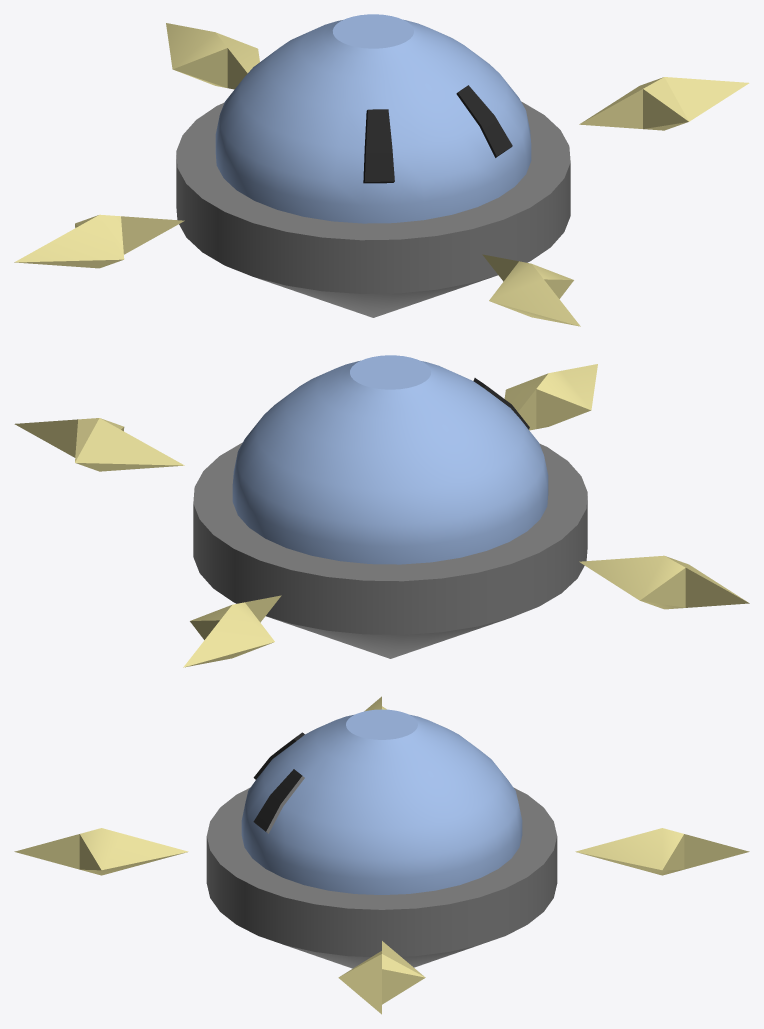
The model's file is Enemy003.fbx.
The picture shows the model from 3 angles, top to bottom: view 1: azimuth 30°, elevation 25°; view 2: azimuth 150°, elevation 25°; view 3: azimuth 270°, elevation 25°; orthographic projection. The views are drawn at different scales.
Parts seen in each view (by area): view 1: Cube.001; view 2: Cube.001; view 3: Cube.001.
Part boxes in pixels (box(x1,y1,x2,y2)): Cube.001: box(14, 14, 749, 326); Cube.001: box(14, 355, 749, 667); Cube.001: box(14, 696, 749, 1014).
Bounding box in the file's own units: 430 × 160 × 420.
